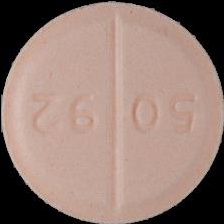63629-1587: (0, 0, 224, 224)
